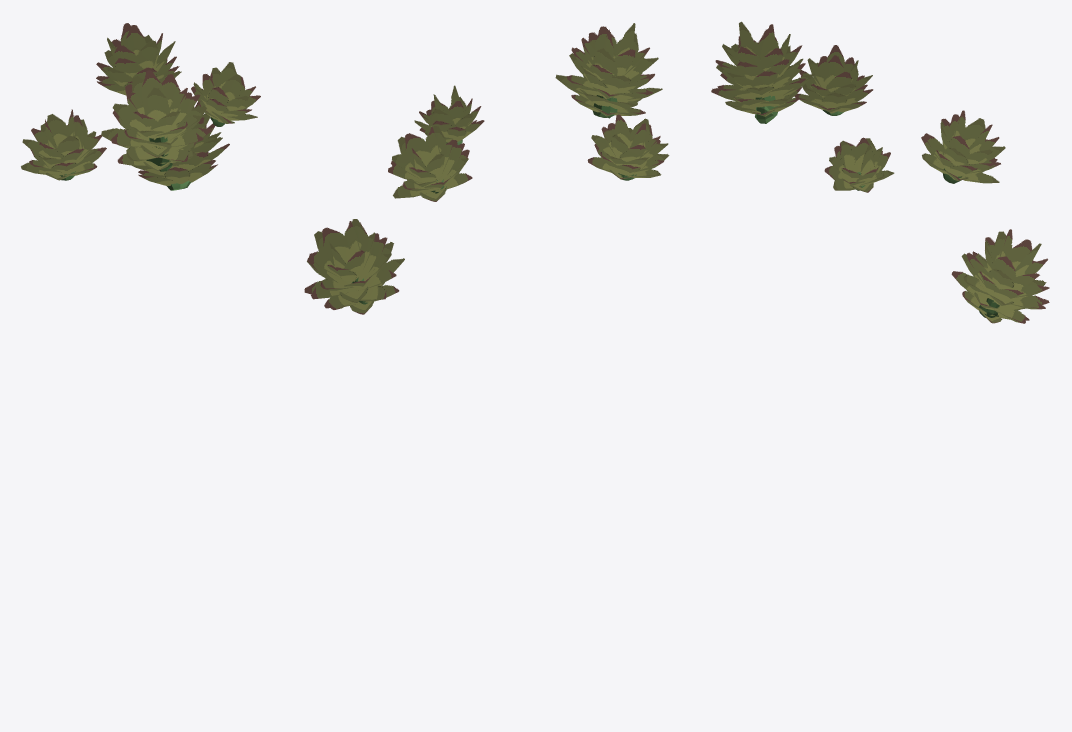
File: succulent_a.glb
3 views of the same model, side by side, from view 1: azimuth 30°, elevation 25°; view 2: azimuth 150°, elevation 25°; view 3: azimuth 270°, elevation 25° (orthographic). The views are drawn at different scales.
Parts seen in each view (by area): view 1: SM_Env_Succulent_04_LOD0; view 2: SM_Env_Succulent_04_LOD0; view 3: SM_Env_Succulent_04_LOD0.
Boxes of the visible parts, box(x1,y1,x2,y2) form: SM_Env_Succulent_04_LOD0: box(21, 23, 260, 190); SM_Env_Succulent_04_LOD0: box(304, 23, 669, 314); SM_Env_Succulent_04_LOD0: box(711, 21, 1049, 323).
Size of what is drawn, in the model's own units: 1.28 by 2.88 by 1.39.
1 material, 1 textured.
